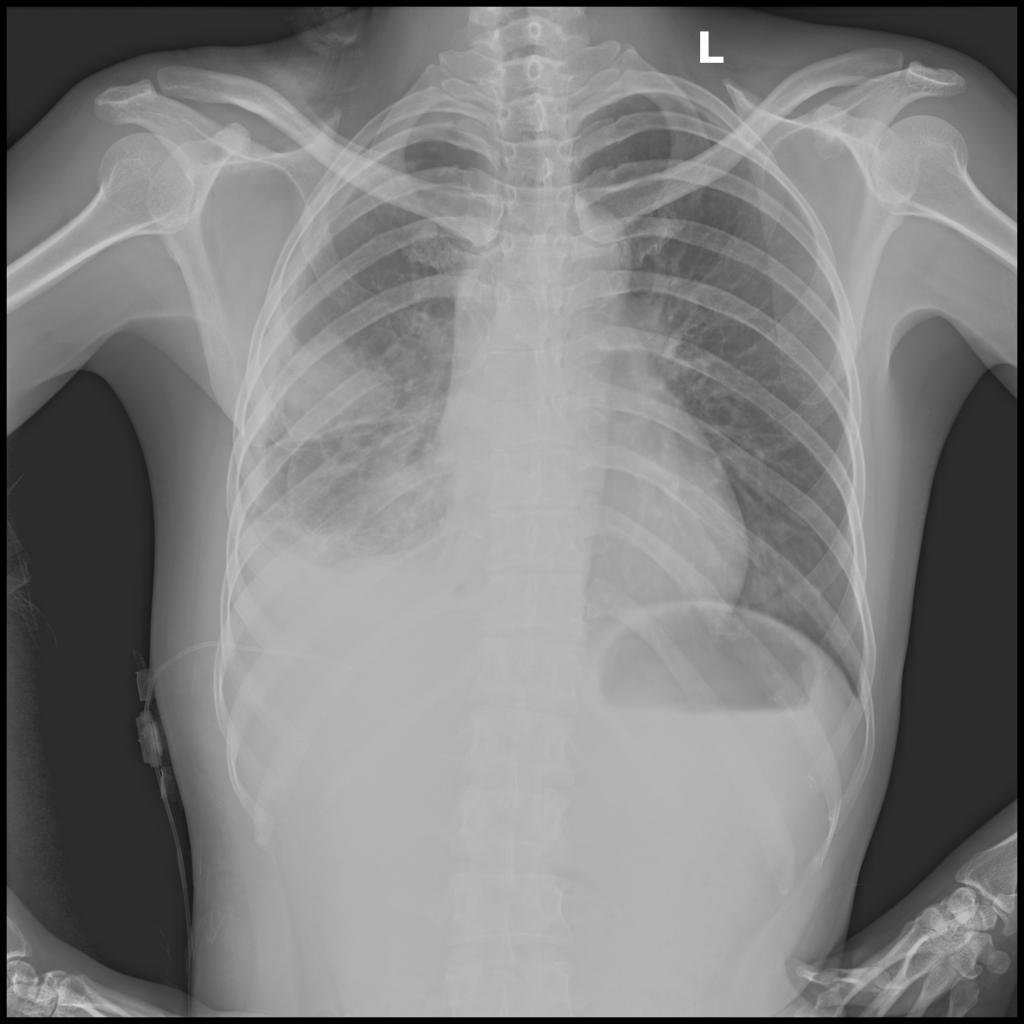Nodule: (272, 335, 397, 432)
